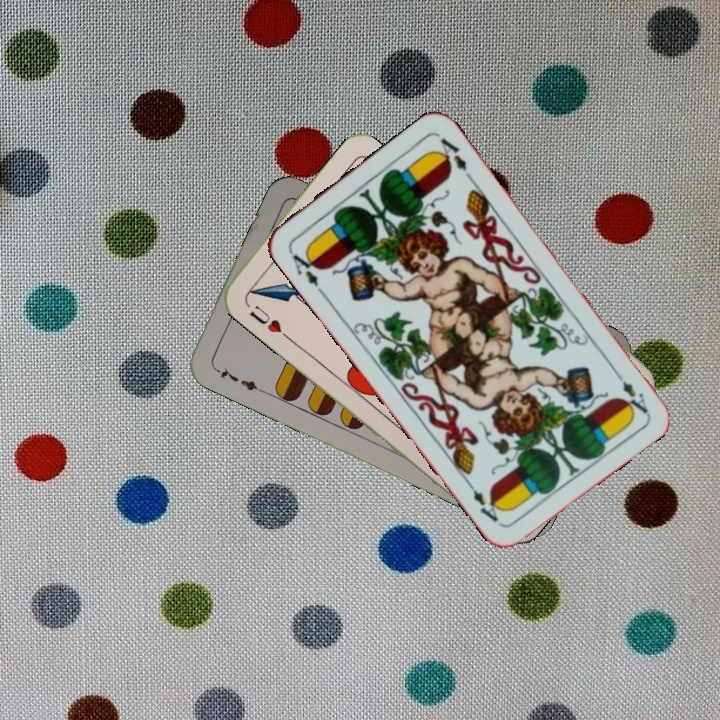E7: (210, 363, 266, 395)
EA: (609, 365, 651, 417), (285, 246, 327, 297)
HU: (245, 301, 285, 336)
